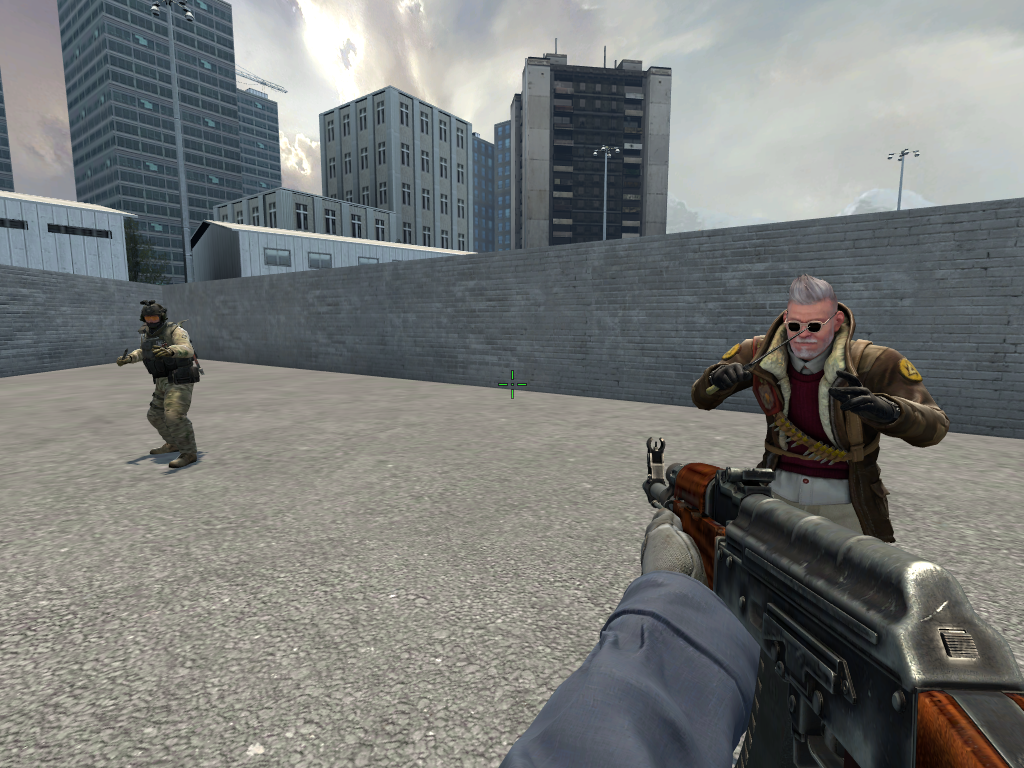ct head: (138, 299, 170, 330)
tr head: (782, 272, 846, 360)
